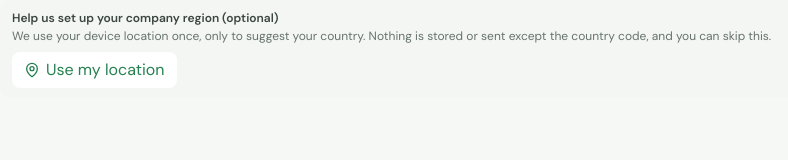
it: RegionalLocationOptIn › shows a calm message when location is unsupported and stores nothing
Click the button "Use my location" at (94, 70), box [12,52,176,88]
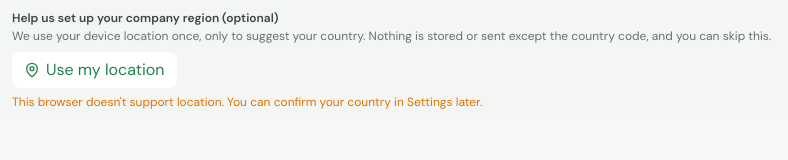
expect the text "doesn't support" is shown: met, box [12,94,482,110]
